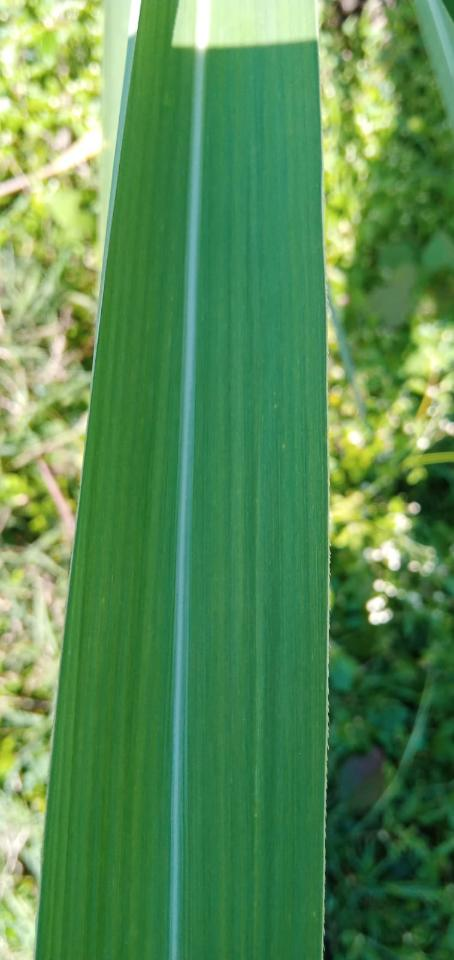Healthy: (36, 0, 329, 959)
